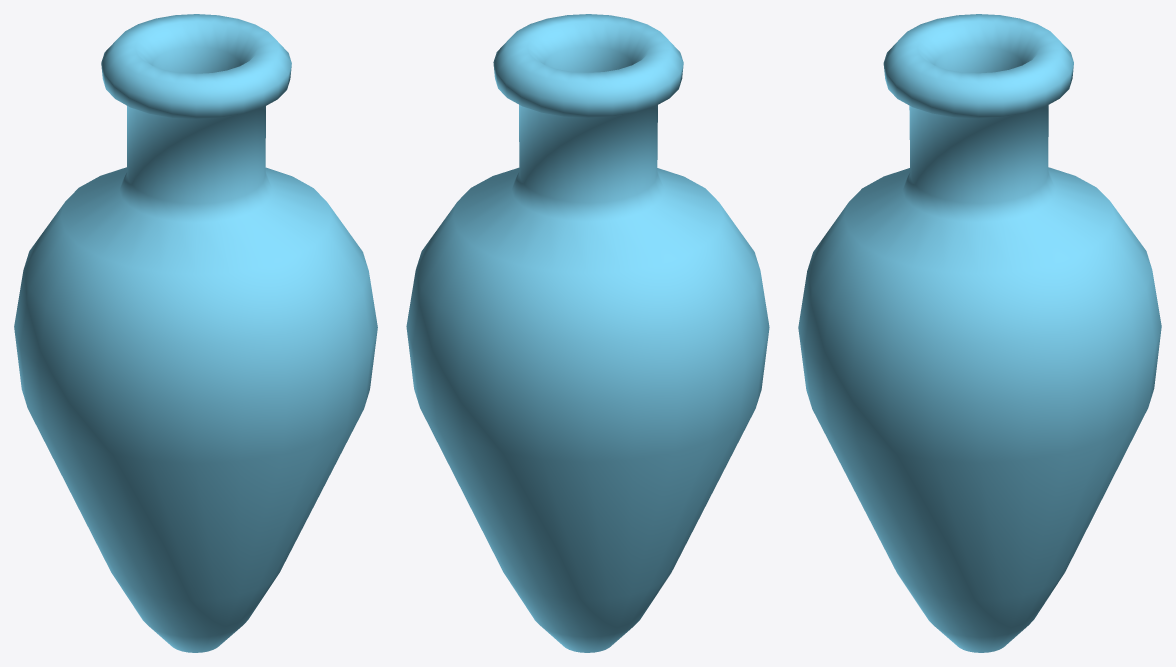
Rendered from Flask, Pear Shaped, Short Neck.fbx.
3 renders of one model, left to right at view 1: azimuth 30°, elevation 25°; view 2: azimuth 150°, elevation 25°; view 3: azimuth 270°, elevation 25°, orthographic.
Parts seen in each view (by area): view 1: Flask, Pear Shaped, Short Neck_LOD0; view 2: Flask, Pear Shaped, Short Neck_LOD0; view 3: Flask, Pear Shaped, Short Neck_LOD0.
Boxes of the visible parts, x1,y1,x2,y2 form: Flask, Pear Shaped, Short Neck_LOD0: [14, 14, 377, 652]; Flask, Pear Shaped, Short Neck_LOD0: [406, 14, 769, 652]; Flask, Pear Shaped, Short Neck_LOD0: [798, 14, 1161, 652].
Size of what is drawn, in the model's own units: 0.4179 by 0.7637 by 0.4179.
